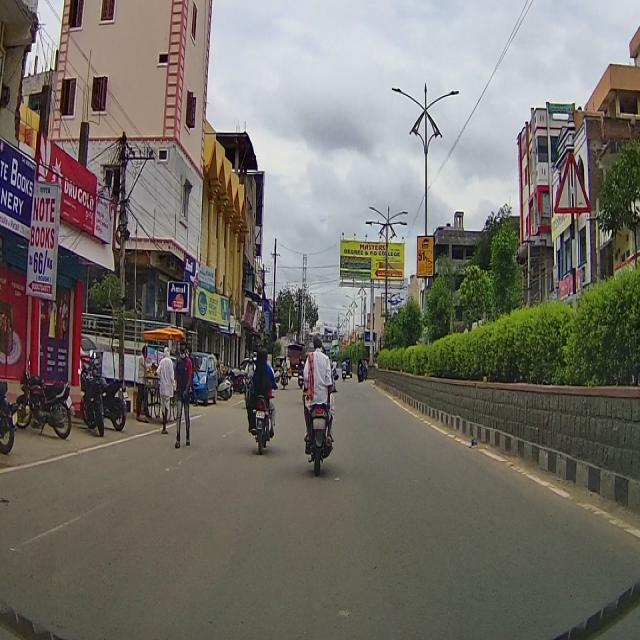gap-in-median: (558, 150, 585, 206)
